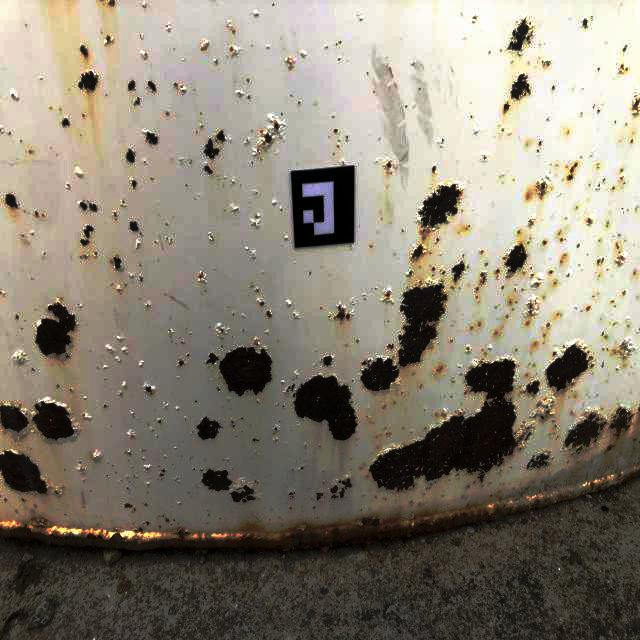Corrosion: (0, 492, 564, 553), (366, 354, 535, 494), (530, 338, 594, 423), (396, 274, 448, 370), (291, 372, 359, 443), (560, 404, 635, 458), (0, 396, 82, 444), (216, 336, 273, 398), (0, 448, 66, 497), (417, 181, 462, 242), (34, 302, 78, 362), (566, 465, 640, 499), (357, 354, 401, 395), (253, 114, 287, 159), (506, 14, 535, 56), (310, 475, 353, 502), (229, 476, 263, 506), (503, 241, 527, 279), (200, 468, 233, 492), (194, 416, 224, 441), (526, 449, 554, 472), (510, 72, 531, 101), (328, 302, 354, 323), (77, 70, 99, 93), (450, 260, 467, 289), (535, 171, 551, 200), (519, 378, 541, 397), (284, 370, 299, 397), (203, 137, 220, 160), (523, 295, 540, 318), (614, 241, 628, 265), (618, 339, 634, 360), (80, 224, 94, 247), (411, 243, 427, 262), (214, 322, 229, 340), (143, 129, 159, 145), (631, 88, 640, 116), (380, 285, 393, 303), (205, 351, 219, 367), (14, 351, 29, 365), (530, 273, 543, 289), (320, 354, 335, 367), (5, 194, 18, 209), (111, 255, 123, 271), (567, 162, 577, 180), (250, 212, 261, 228), (144, 383, 156, 395), (173, 82, 185, 94), (215, 130, 225, 144), (126, 148, 135, 163), (176, 356, 187, 368), (229, 46, 241, 57), (541, 57, 553, 68), (618, 62, 628, 75), (157, 514, 169, 524), (147, 80, 156, 93), (480, 269, 487, 285), (129, 221, 139, 232), (201, 39, 209, 52), (227, 21, 235, 34), (527, 215, 535, 228), (92, 451, 102, 461), (288, 490, 297, 501), (79, 201, 88, 212), (80, 45, 88, 57), (77, 462, 85, 474), (271, 425, 280, 435), (230, 203, 239, 213), (104, 35, 113, 45), (251, 281, 259, 292), (128, 80, 136, 91), (89, 202, 97, 213), (199, 271, 206, 283), (130, 178, 137, 190), (385, 160, 392, 172), (204, 165, 213, 174), (62, 117, 70, 127), (128, 430, 136, 440), (406, 269, 414, 279), (581, 17, 589, 27), (286, 58, 294, 68), (166, 328, 173, 339), (587, 214, 594, 225), (257, 298, 265, 307), (244, 138, 252, 147), (560, 253, 567, 263), (159, 468, 166, 477), (436, 365, 443, 374), (230, 418, 236, 428), (135, 239, 141, 249), (494, 269, 500, 279), (619, 169, 624, 181), (265, 310, 272, 318), (107, 346, 114, 354), (597, 257, 604, 265), (431, 164, 437, 173), (166, 237, 173, 244), (387, 343, 394, 350), (143, 520, 151, 526), (125, 502, 133, 508), (297, 465, 305, 471), (134, 97, 140, 105), (145, 464, 151, 472), (116, 335, 124, 341), (113, 211, 118, 220), (138, 274, 143, 283), (166, 23, 171, 32), (139, 359, 144, 368), (504, 103, 509, 112), (109, 0, 115, 7), (122, 347, 128, 354), (434, 237, 440, 244), (252, 438, 260, 443), (251, 251, 256, 259), (80, 254, 88, 259), (596, 183, 601, 191), (482, 155, 487, 163), (125, 450, 131, 456), (208, 233, 213, 240), (117, 286, 122, 293), (475, 286, 480, 293), (623, 45, 627, 53), (122, 383, 127, 389), (538, 140, 543, 146), (466, 484, 471, 490), (121, 199, 125, 206), (129, 273, 134, 278), (93, 251, 97, 257), (158, 418, 162, 424), (529, 272, 533, 278), (638, 404, 640, 415), (145, 303, 150, 307), (273, 438, 278, 442), (166, 111, 170, 116), (34, 211, 39, 215), (21, 498, 26, 502), (549, 271, 554, 275), (622, 290, 626, 295), (551, 86, 555, 91), (216, 387, 220, 391), (181, 341, 185, 345), (103, 404, 107, 408), (546, 323, 550, 327), (633, 438, 637, 442), (334, 128, 338, 132), (144, 53, 147, 58), (432, 266, 435, 271), (543, 240, 546, 245), (576, 461, 581, 464), (587, 306, 590, 311), (145, 502, 148, 506), (256, 400, 259, 404), (187, 353, 190, 357), (566, 460, 569, 464), (601, 332, 604, 336), (612, 186, 615, 190), (603, 178, 605, 183), (16, 315, 18, 320), (289, 507, 292, 510), (283, 405, 286, 408), (195, 400, 198, 403), (4, 498, 7, 501), (57, 385, 60, 388), (529, 266, 532, 269), (526, 373, 528, 377), (537, 149, 539, 153), (313, 506, 315, 509), (241, 417, 243, 420), (276, 403, 279, 405), (200, 469, 203, 471), (166, 223, 168, 226), (125, 283, 127, 286), (351, 379, 353, 382), (560, 238, 562, 241), (193, 468, 195, 470)
